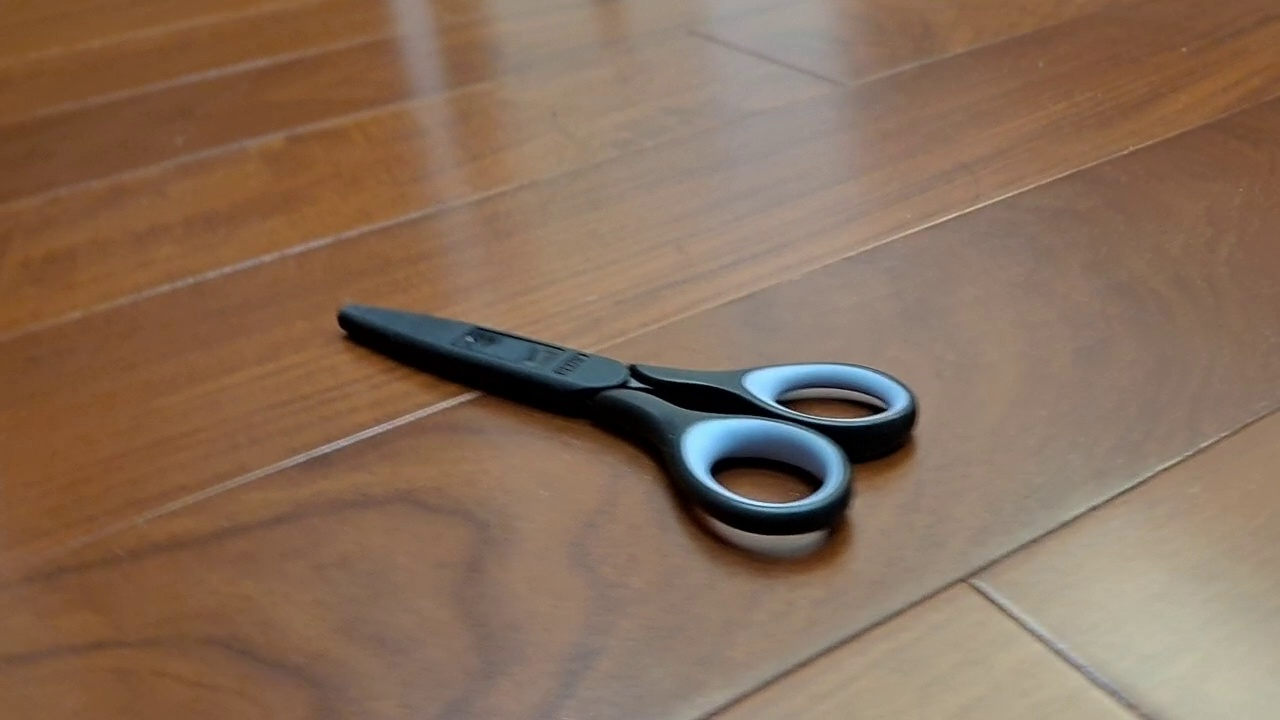scissors: (335, 302, 920, 539)
